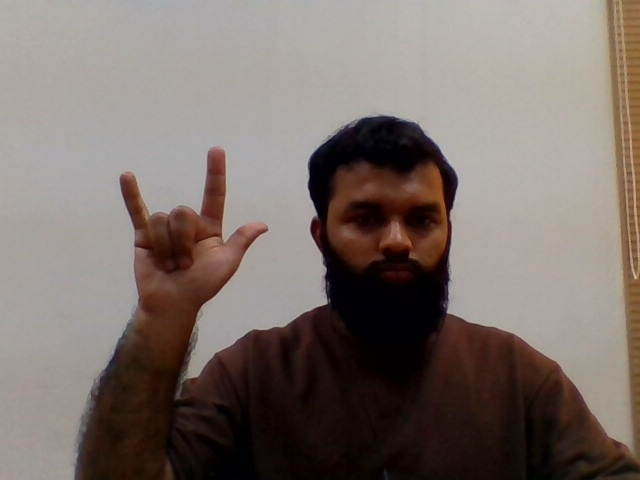I Love you: (112, 145, 274, 317)
